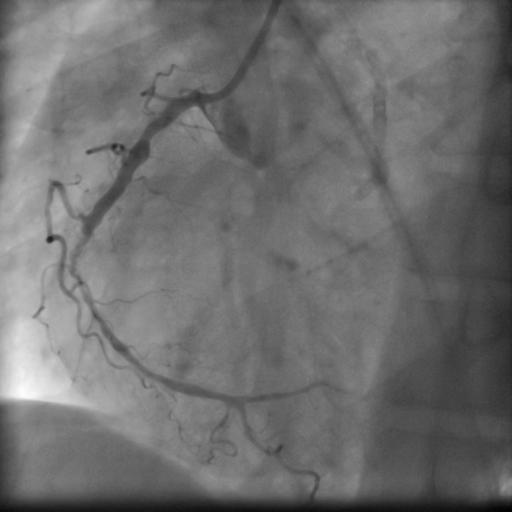Stenosis: (141, 116, 161, 144)
